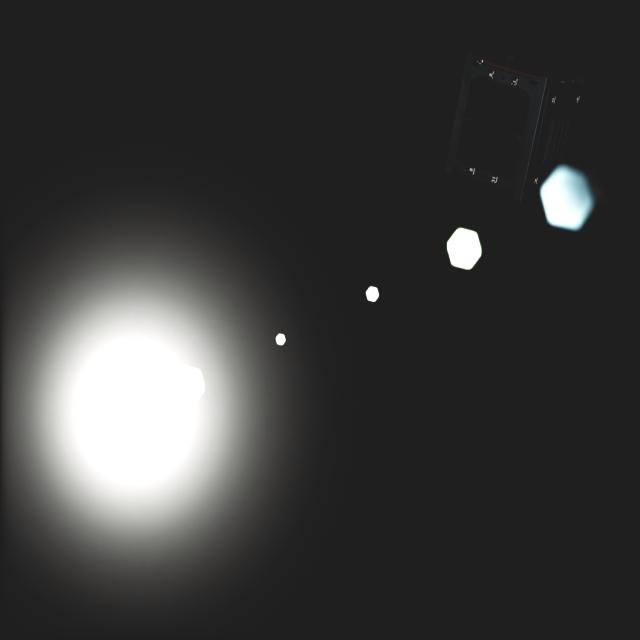satellite: (441, 51, 576, 196)
